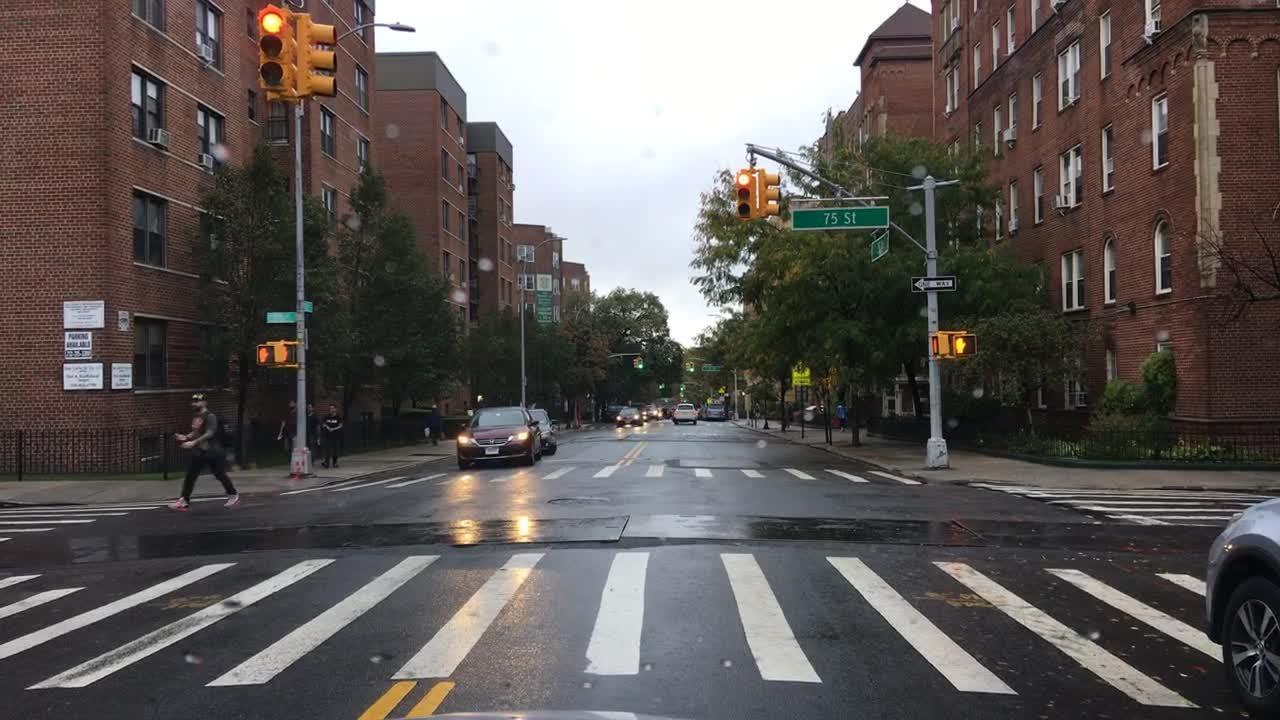Honda: (483, 434, 500, 447)
